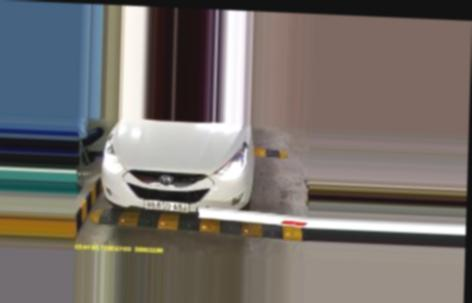License_Plate: (143, 200, 189, 215)
